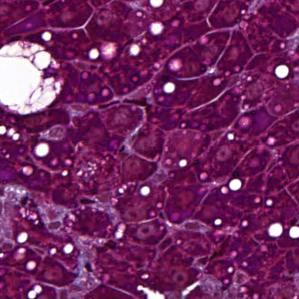ballooning: (0, 37, 64, 118)
